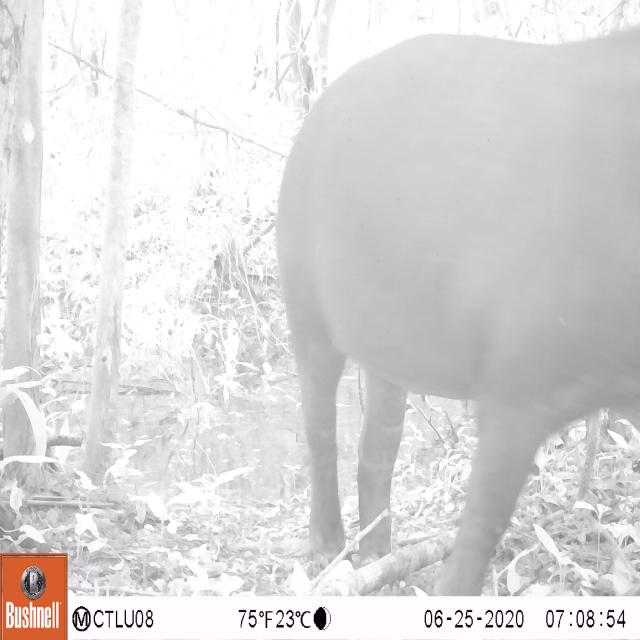Lowland Tapir: (267, 22, 639, 594)
